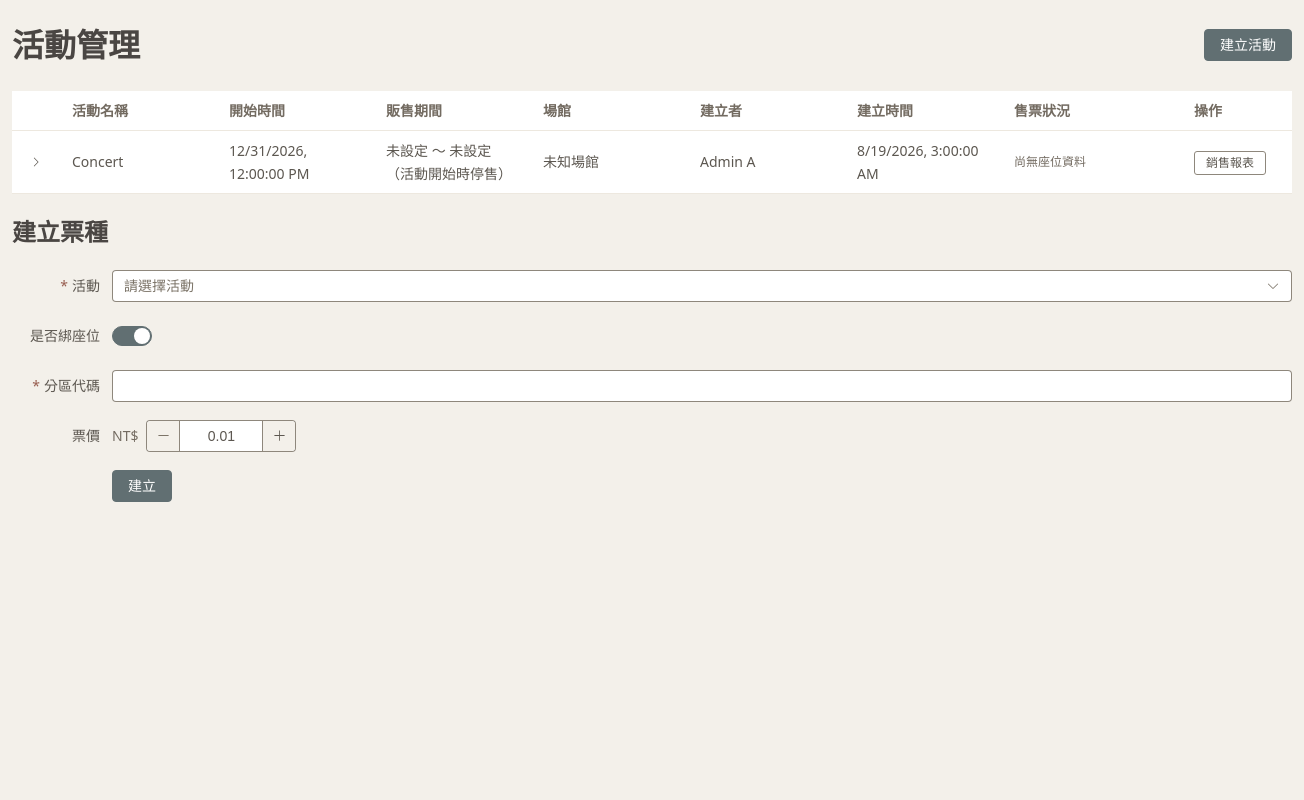
Test case: EventListPage 建立票種：座位制／計數制（RequiresSeat 開關） › 開啟活動列表頁展開票種清單，正確顯示既有票種的模式與可售總量
Click the icon next to "Concert": click(36, 162) [30,156,42,168]
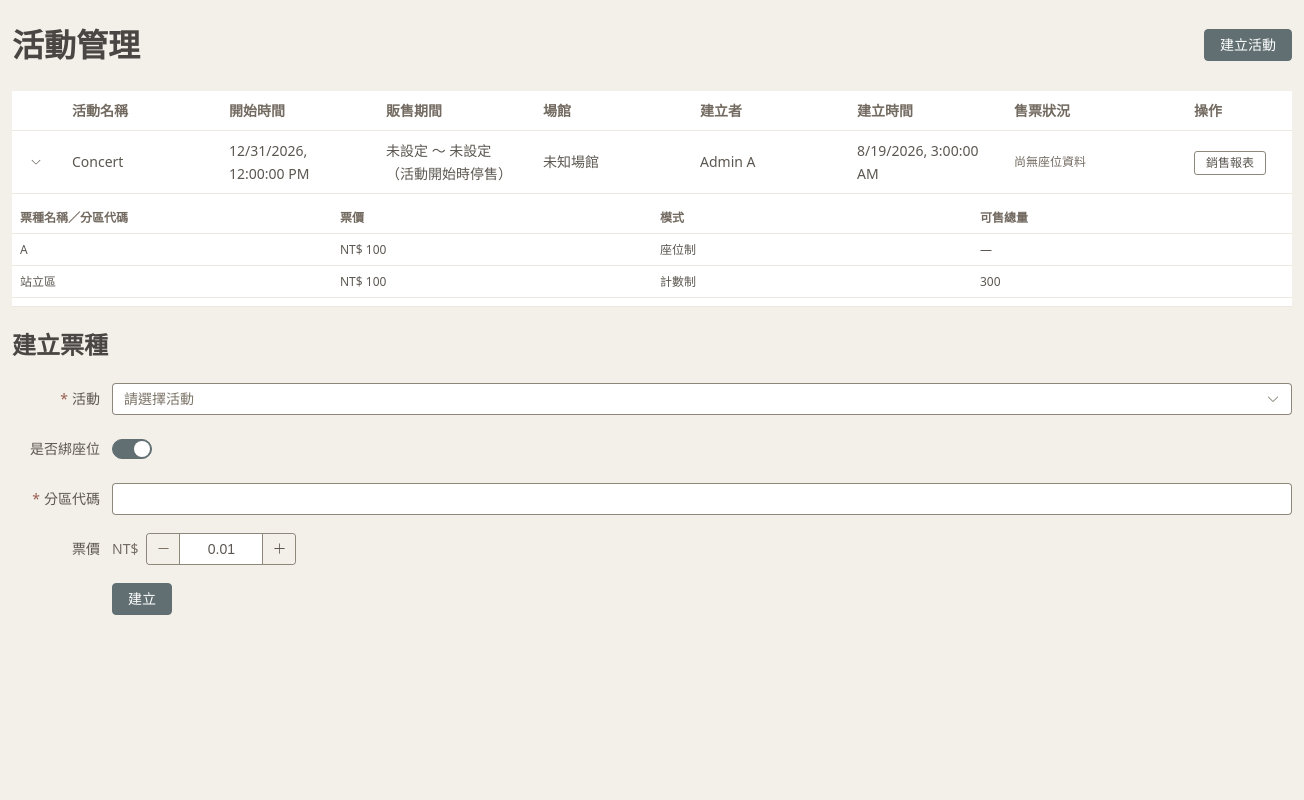
Check: the text "座位制" is shown, box [660,241,696,258]
Check: the text "計數制" is shown, box [660,273,696,290]
Check: the text "300" is shown, box [980,273,1001,290]
